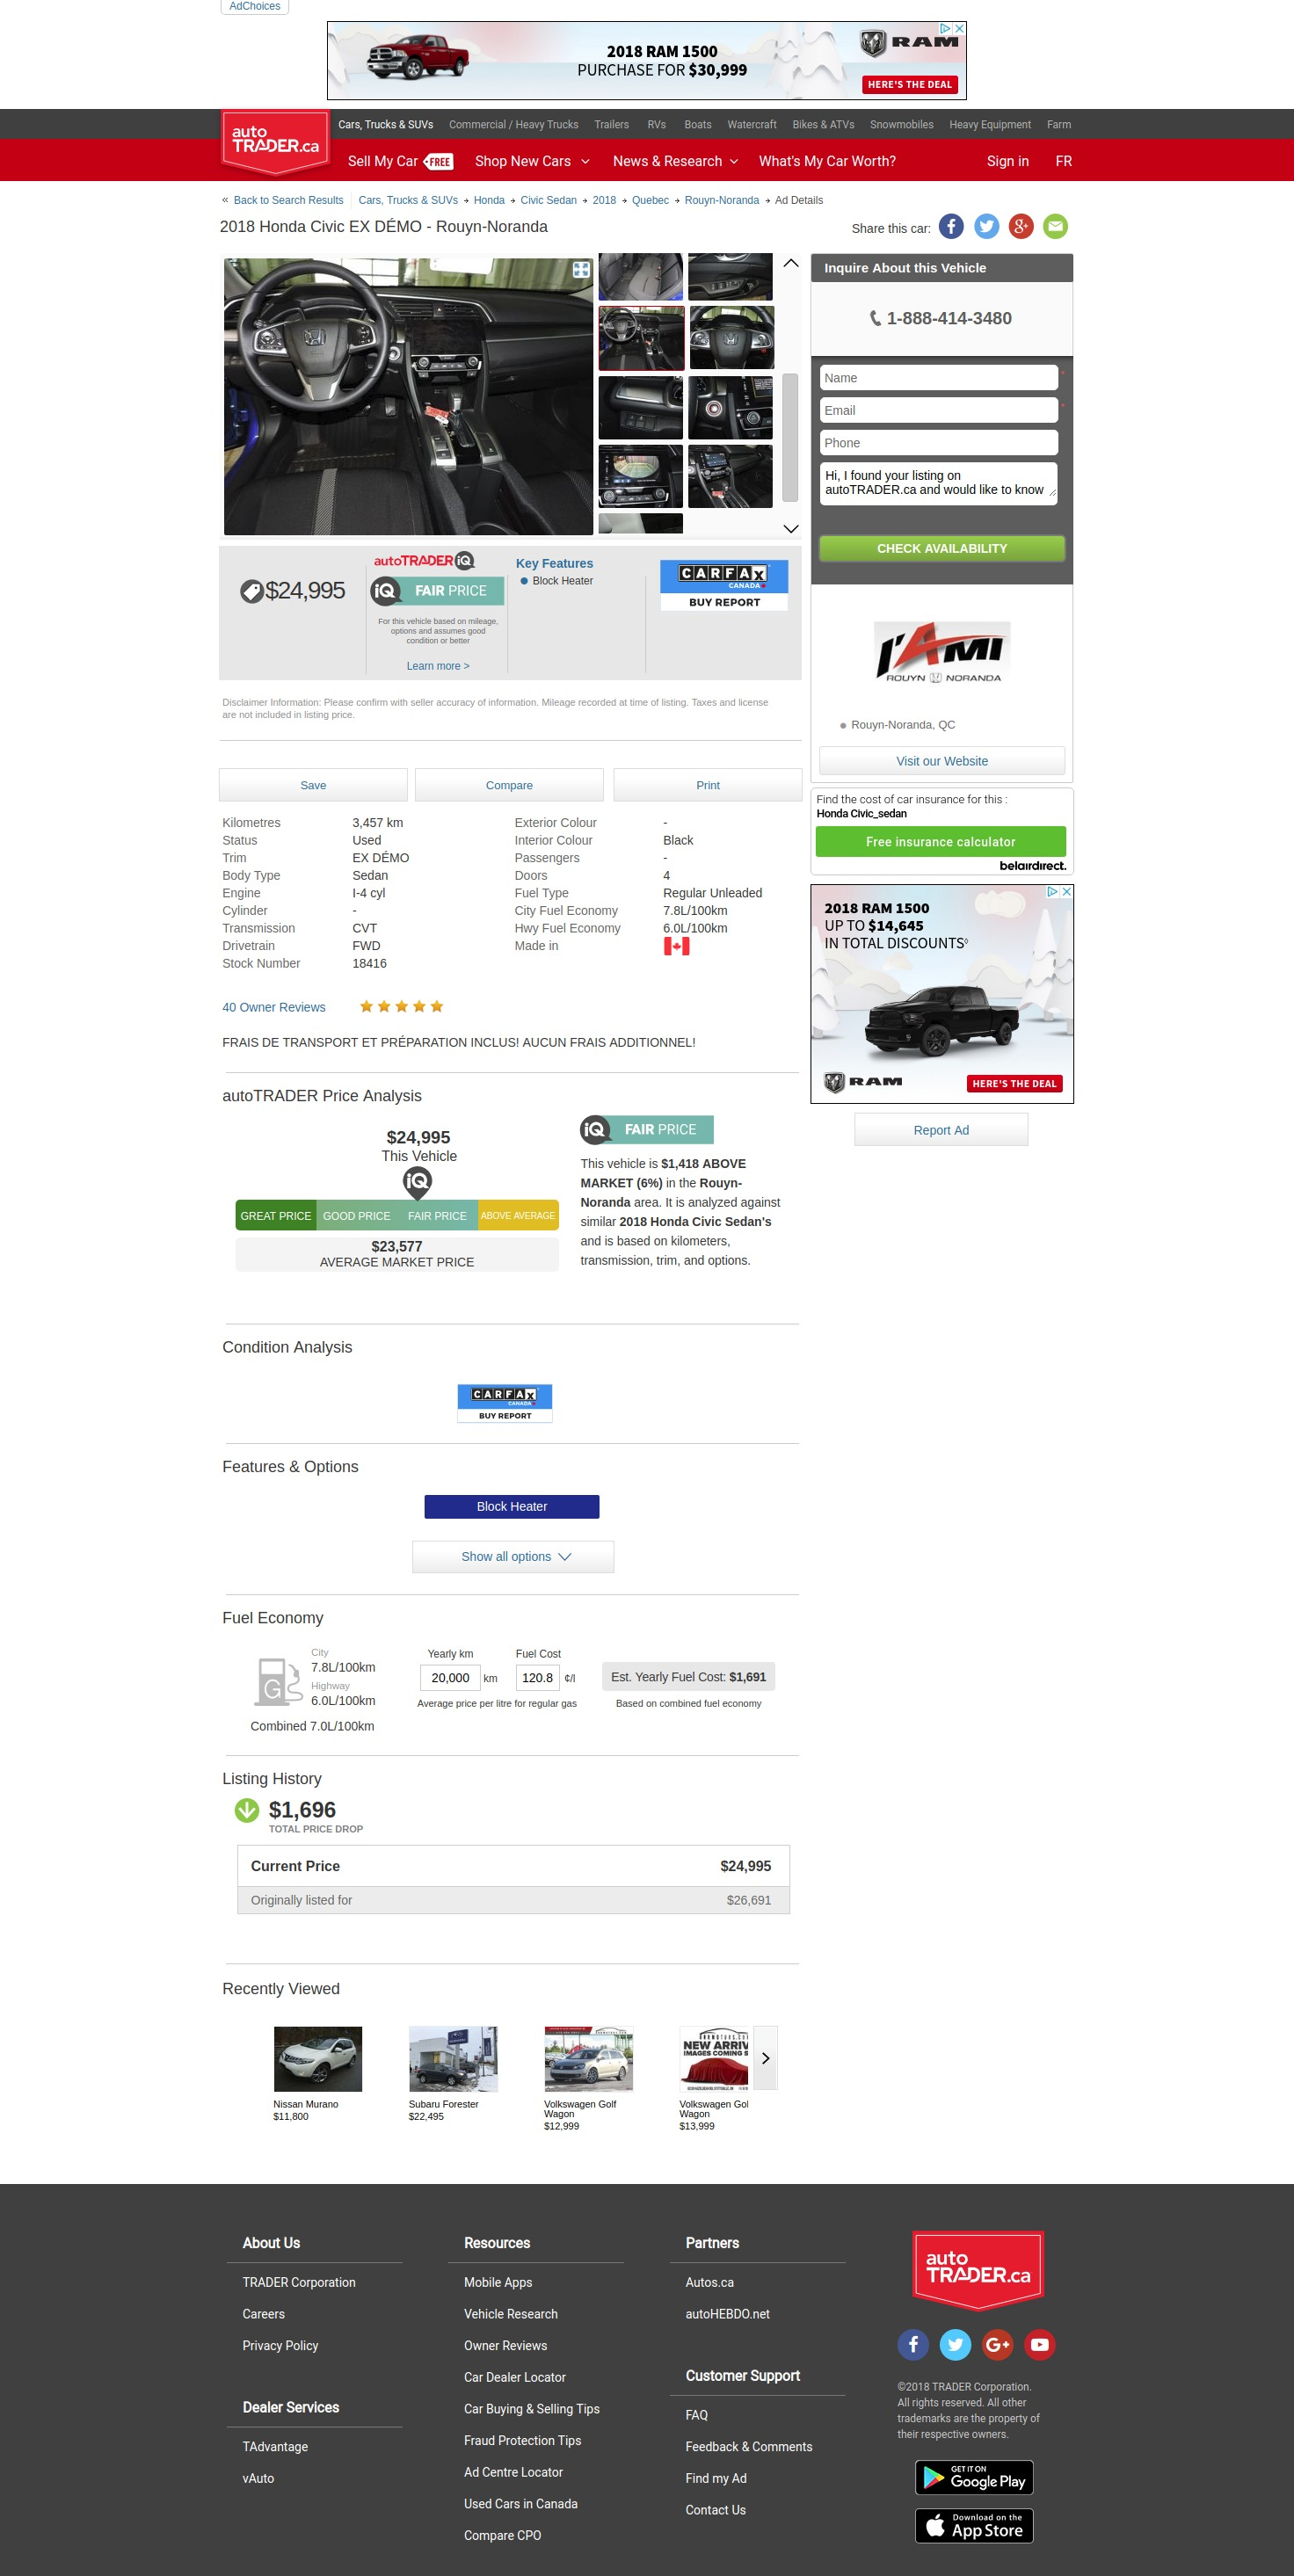car: (782, 523, 802, 538)
